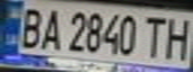0: (118, 11, 142, 57)
2: (63, 7, 87, 53)
4: (103, 10, 124, 56)
8: (81, 8, 106, 54)
A: (36, 4, 66, 52)
B: (12, 3, 45, 50)
H: (160, 15, 193, 61)
T: (139, 12, 172, 60)
